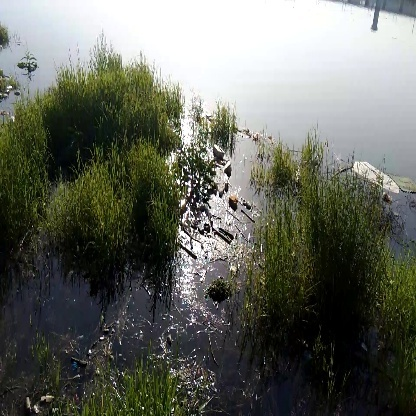plastic-bag: (355, 157, 404, 197)
